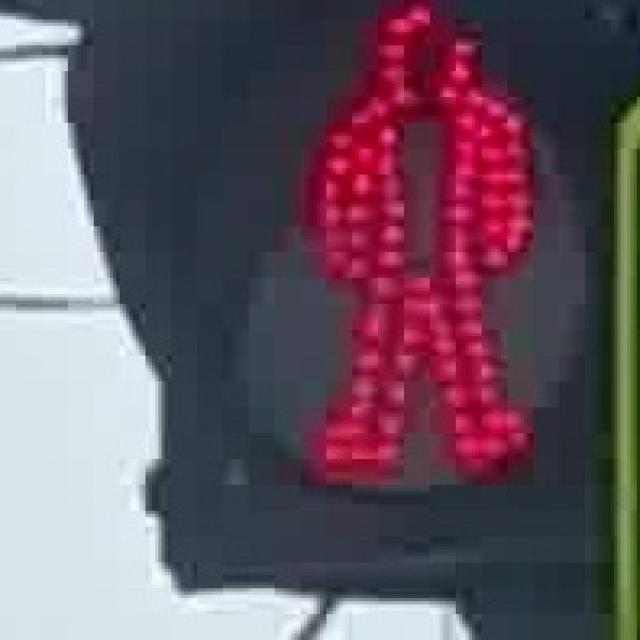red_light: (256, 10, 536, 488)
